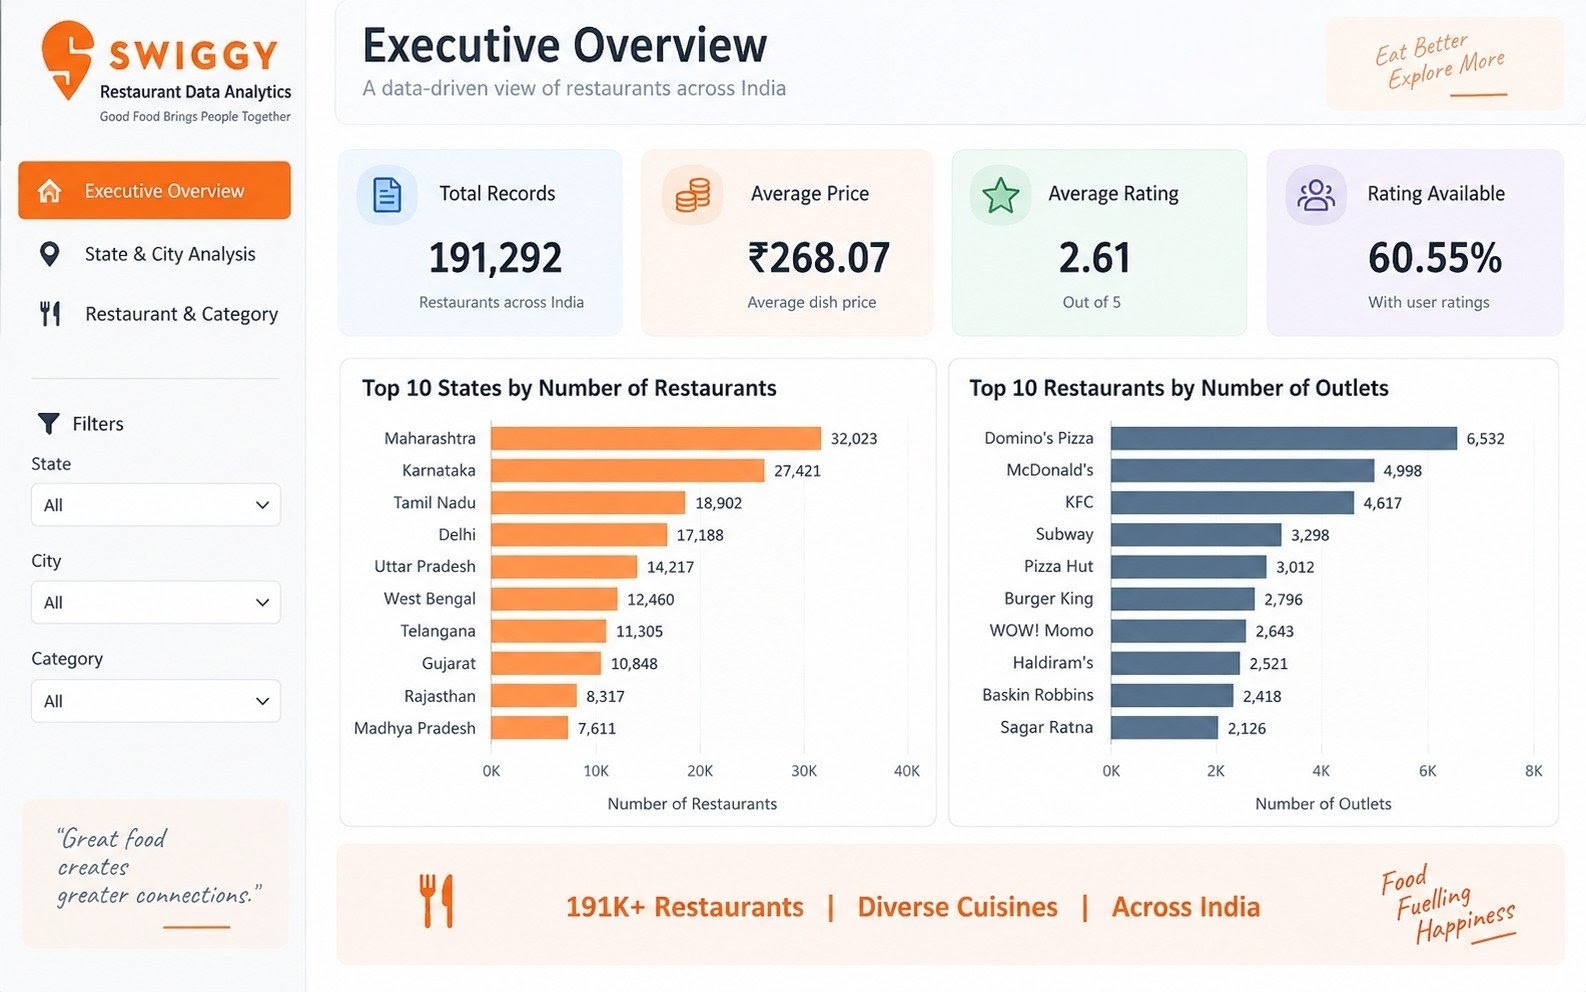

What the dashboard file says about the page in this screenshot:
{"tool":"powerbi","page":{"name":"Page 1","canvas":[1280,720],"ordinal":0},"visuals":[{"type":"shape","box":[0,0,227.3,719.7],"z":0},{"type":"image","box":[9.1,0,210.6,84.8],"z":1000},{"type":"textbox","box":[45.5,60.6,181.8,47],"z":2000},{"type":"shape","box":[0,130.3,227.3,63.6],"z":3000},{"type":"textbox","box":[60.6,142.4,171.2,37.9],"z":4000},{"type":"textbox","box":[48.5,224.2,184.8,37.9],"z":5000},{"type":"textbox","box":[57.6,295.5,171.2,37.9],"z":6000},{"type":"textbox","box":[68.2,351.5,159.1,37.9],"z":7000},{"type":"textbox","box":[248.5,18.2,581.8,74.2],"z":8000},{"type":"textbox","box":[252,75.3,387.9,53],"z":9000},{"type":"card","title":"Total Records","fields":{"Values":["CountNonNull(swiggy_all_menus_india.Category)"]},"box":[313.6,171.3,160.6,84.8],"z":10000},{"type":"shape","box":[490.9,158.1,251.5,136.4],"z":11000},{"type":"card","title":"Average Price","fields":{"Values":["Avg(swiggy_all_menus_india.Rating)"]},"box":[830.3,171.8,160.6,84.8],"z":12000},{"type":"shape","box":[231.8,158.1,247,136.4],"z":13000},{"type":"card","title":"Average Price","fields":{"Values":["Avg(swiggy_all_menus_india.Price _INR)"]},"box":[574.2,171.8,160.6,84.8],"z":14000},{"type":"shape","box":[753,158.1,250,136.4],"z":15000},{"type":"shape","box":[1007.6,158.1,269.7,136.4],"z":16000},{"type":"card","title":"Rating Availability","fields":{"Values":["Avg(swiggy_all_menus_india.Price _INR)"]},"box":[1062.1,171.3,207.6,84.8],"z":17000},{"type":"slicer","fields":{"Values":["swiggy_all_menus_india.State"]},"box":[871.2,9.1,180.3,74.2],"z":18000},{"type":"slicer","fields":{"Values":["swiggy_all_menus_india.City"]},"box":[1089.4,9.1,180.3,74.2],"z":19000},{"type":"slicer","fields":{"Values":["swiggy_all_menus_india.State"]},"box":[871.2,87.9,180.3,74.2],"z":20000},{"type":"slicer","fields":{"Values":["swiggy_all_menus_india.State"]},"box":[1089.4,89.4,180.3,74.2],"z":21000},{"type":"barChart","title":"Top 10 States by Number of Records","fields":{"Category":["swiggy_all_menus_india.State"],"Y":["CountNonNull(swiggy_all_menus_india.State)"]},"box":[243.9,297,490.9,245.5],"z":22000},{"type":"clusteredBarChart","title":"Average Price by State","fields":{"Category":["swiggy_data.State"],"Y":["Avg(swiggy_data.Price _INR)"]},"box":[753,297,506.1,245.5],"z":22001}]}

Visuals, with their boxes on the page's 1280x720 design canvas (x1, y1, x2, y2). These are canvas units, not pixel positions in the 1586x992 screenshot, which may show the page scaled, cropped or inside an application window:
shape: <box>0,0,227,720</box>
image: <box>9,0,220,85</box>
textbox: <box>46,61,227,108</box>
shape: <box>0,130,227,194</box>
textbox: <box>61,142,232,180</box>
textbox: <box>48,224,233,262</box>
textbox: <box>58,296,229,333</box>
textbox: <box>68,352,227,389</box>
textbox: <box>248,18,830,92</box>
textbox: <box>252,75,640,128</box>
"Total Records" card: <box>314,171,474,256</box>
shape: <box>491,158,742,294</box>
"Average Price" card: <box>830,172,991,257</box>
shape: <box>232,158,479,294</box>
"Average Price" card: <box>574,172,735,257</box>
shape: <box>753,158,1003,294</box>
shape: <box>1008,158,1277,294</box>
"Rating Availability" card: <box>1062,171,1270,256</box>
slicer - swiggy_all_menus_india.State: <box>871,9,1052,83</box>
slicer - swiggy_all_menus_india.City: <box>1089,9,1270,83</box>
slicer - swiggy_all_menus_india.State: <box>871,88,1052,162</box>
slicer - swiggy_all_menus_india.State: <box>1089,89,1270,164</box>
"Top 10 States by Number of Records" barChart: <box>244,297,735,542</box>
"Average Price by State" clusteredBarChart: <box>753,297,1259,542</box>
